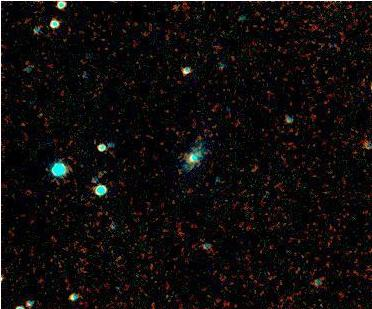star: (352, 73, 372, 103)
